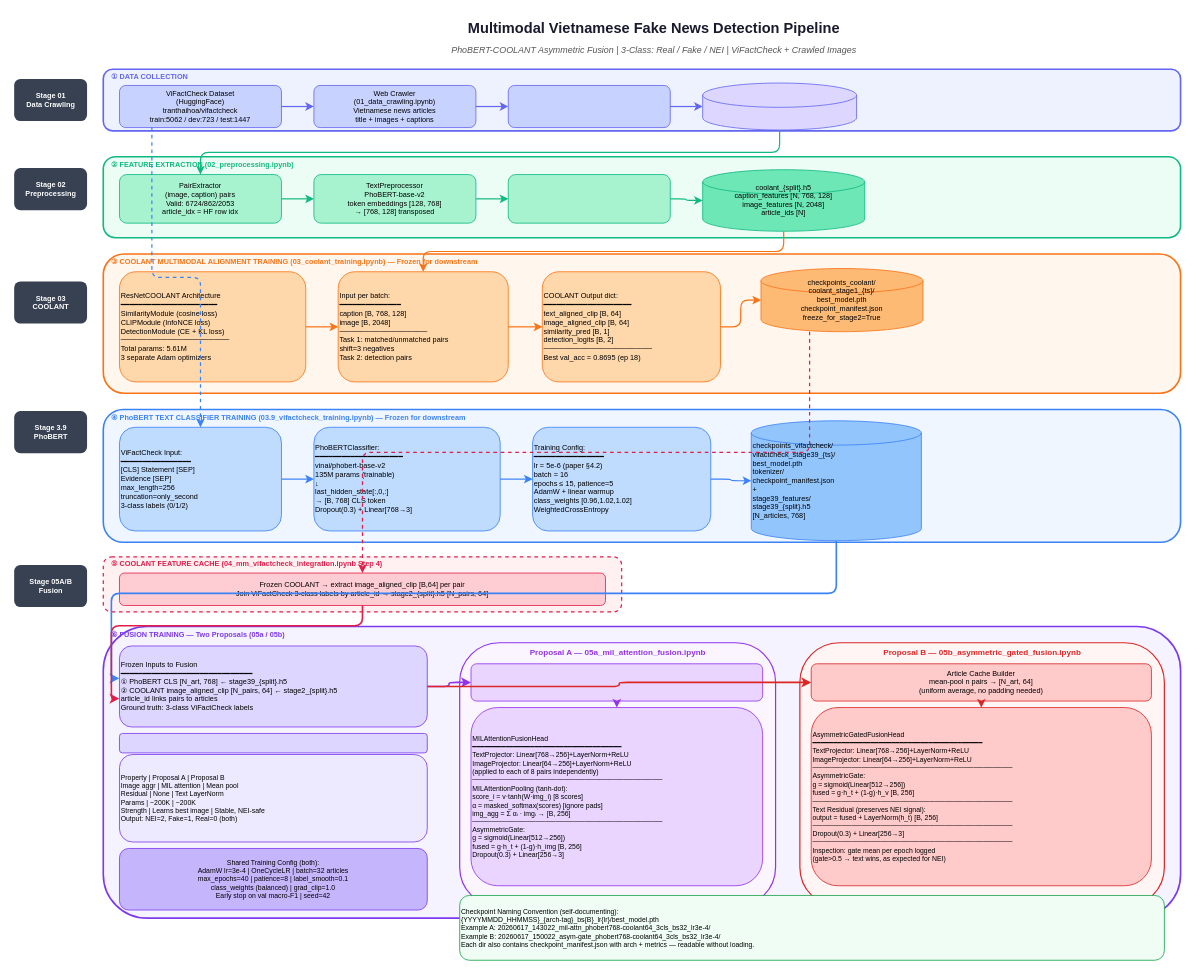
This 1195x974 diagram has some shape labels left out. Here are the shapes that lost their labels. From the top down, the centre of each, then its label:
the point at 588,106: Label Assignment 0=Real (Supported) 1=Fake (Refuted) 2=NEI (Not Enough Info)
the point at 779,106: news_data_vifactcheck _{train|dev|test}_labeled.json + /jpg/ images on disk
the point at 588,198: ImagePreprocessor ResNet50 (pretrained) image features [2048] per image
the point at 616,682: MIL Cache Builder group pairs by article_id pad to max_pairs=8 [N, 8, 64]
the point at 273,743: A vs B
